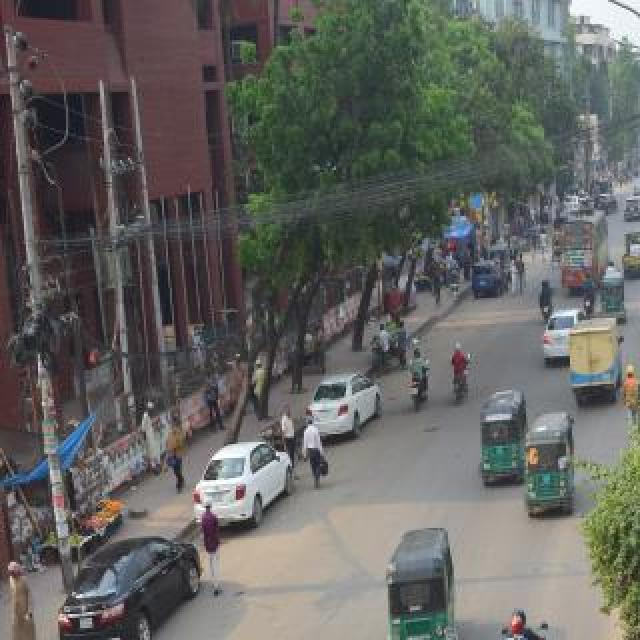bus: (555, 205, 609, 297)
car: (62, 440, 196, 640), (185, 399, 285, 593), (278, 343, 396, 463), (521, 277, 581, 365), (466, 243, 506, 303), (560, 179, 584, 217), (589, 190, 623, 212), (624, 196, 640, 234), (630, 174, 640, 200)
motorbike: (397, 337, 435, 425), (442, 330, 478, 420), (488, 598, 562, 640), (525, 260, 559, 328), (569, 268, 601, 320)
van: (608, 210, 640, 294)
